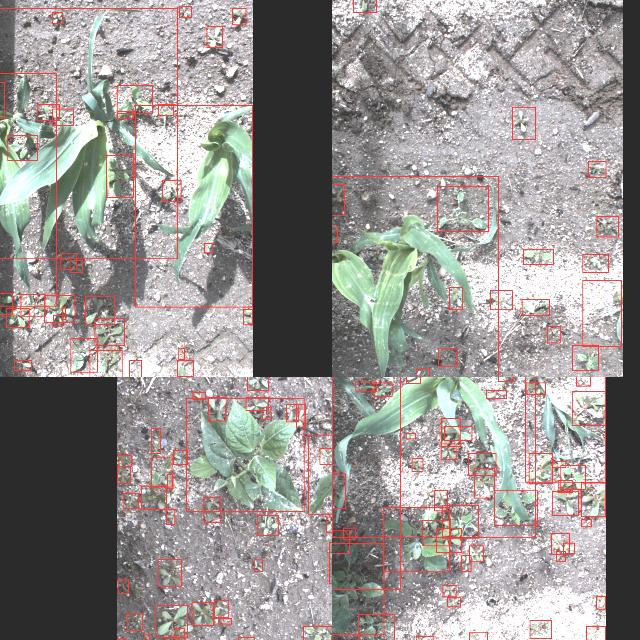crop: (0, 9, 177, 259), (332, 176, 498, 377), (332, 377, 535, 536), (135, 105, 253, 307), (332, 377, 400, 589), (186, 398, 304, 512), (0, 73, 56, 306), (526, 377, 606, 482), (582, 280, 622, 346), (308, 435, 332, 515), (150, 458, 172, 487)
weed: (332, 543, 384, 634), (383, 508, 449, 572), (438, 186, 488, 232), (494, 490, 538, 526), (106, 155, 134, 197), (572, 391, 606, 425), (442, 506, 478, 538), (155, 605, 187, 637), (118, 85, 152, 113), (70, 338, 98, 372), (358, 614, 394, 640), (580, 483, 606, 517), (90, 350, 122, 377), (95, 318, 125, 346), (85, 296, 115, 324), (512, 106, 536, 140), (45, 296, 75, 322), (422, 520, 450, 546), (7, 136, 37, 160), (529, 453, 553, 483), (573, 346, 599, 370), (157, 560, 181, 586), (560, 465, 586, 489), (552, 491, 578, 515), (436, 529, 462, 553), (468, 453, 496, 475), (474, 468, 494, 498), (140, 486, 166, 508), (442, 419, 461, 447), (21, 294, 45, 316), (191, 602, 213, 626), (583, 254, 609, 272), (332, 473, 345, 508), (522, 299, 550, 315), (162, 180, 182, 202), (6, 308, 28, 328), (490, 290, 512, 310), (597, 217, 619, 237), (208, 397, 226, 421), (524, 250, 554, 264), (303, 626, 332, 640), (258, 515, 278, 535), (530, 620, 552, 638), (444, 426, 472, 440), (332, 530, 349, 553), (204, 498, 220, 522), (52, 108, 74, 125), (438, 348, 458, 366), (551, 534, 569, 554), (37, 104, 59, 120), (332, 184, 343, 215), (207, 27, 223, 48), (449, 286, 463, 310), (247, 377, 268, 391), (588, 161, 606, 177), (434, 491, 448, 511), (352, 0, 375, 12), (177, 359, 193, 376), (586, 626, 605, 640), (0, 293, 12, 315), (246, 398, 268, 410), (150, 428, 160, 454), (126, 614, 142, 630), (440, 444, 456, 460), (214, 600, 228, 618), (116, 466, 130, 484), (374, 383, 392, 397), (296, 404, 306, 428), (232, 9, 246, 25), (61, 254, 77, 268), (122, 494, 138, 508), (469, 546, 483, 562), (128, 360, 141, 377), (526, 382, 546, 393), (286, 404, 298, 422), (173, 450, 187, 464), (319, 448, 332, 463), (158, 104, 174, 116), (548, 327, 560, 343), (356, 382, 376, 391), (14, 360, 31, 370), (558, 480, 572, 492), (442, 585, 456, 597), (486, 391, 506, 399), (461, 555, 471, 571), (70, 261, 82, 273), (179, 6, 191, 18), (343, 528, 355, 540), (470, 632, 488, 640), (118, 580, 128, 594), (118, 456, 132, 466), (412, 458, 422, 472), (596, 596, 606, 610), (577, 377, 591, 386), (52, 12, 62, 24), (564, 542, 574, 554), (556, 550, 566, 562), (244, 310, 252, 324), (416, 369, 430, 377), (166, 510, 174, 524), (552, 460, 566, 468), (447, 598, 461, 606), (175, 628, 184, 640), (192, 392, 205, 400), (117, 112, 133, 118), (254, 560, 262, 572), (326, 517, 332, 533), (218, 618, 232, 624), (406, 377, 420, 383), (205, 243, 213, 253), (54, 316, 62, 326), (332, 227, 337, 243), (262, 408, 270, 418), (498, 377, 513, 382), (416, 636, 434, 640), (179, 348, 185, 359), (582, 520, 592, 526), (168, 474, 172, 488), (62, 307, 66, 319), (238, 637, 254, 640), (406, 433, 414, 439), (165, 637, 179, 640), (144, 634, 149, 640)
